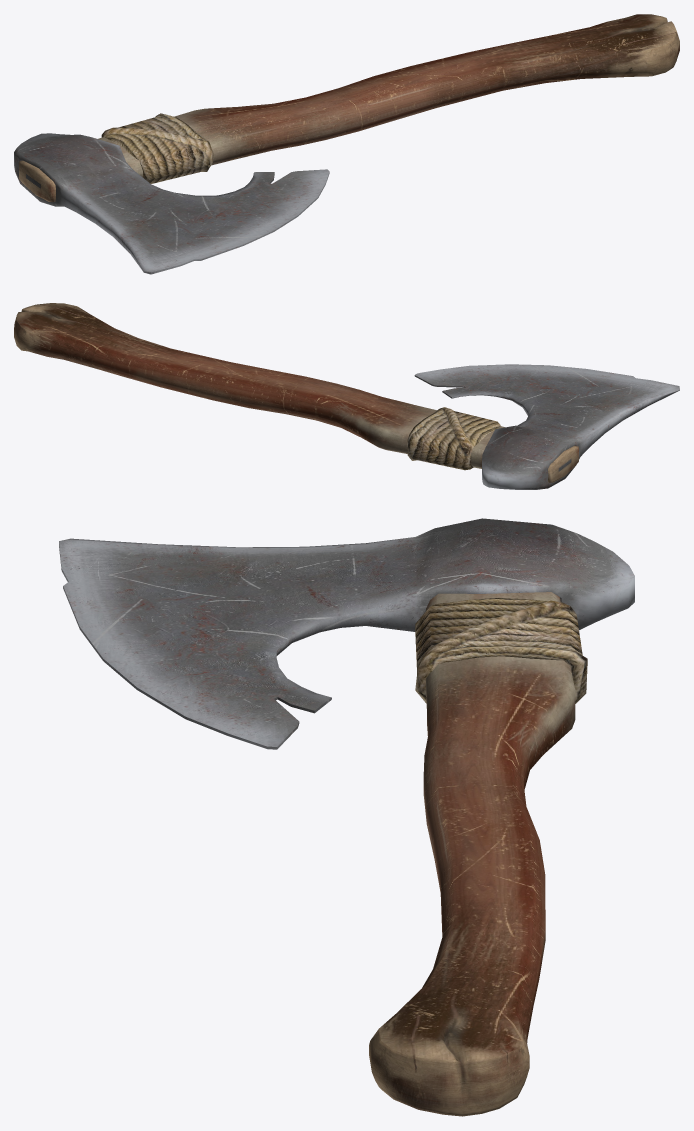
The model's file is axe.fbx.
3 renders of one model, top to bottom at view 1: azimuth 30°, elevation 25°; view 2: azimuth 150°, elevation 25°; view 3: azimuth 270°, elevation 25°, orthographic. The views are drawn at different scales.
Visible parts, largest first — view 1: Plane002; view 2: Plane002; view 3: Plane002.
Boxes of the visible parts, x1=… form: Plane002: x1=14, y1=14, x2=679, y2=274; Plane002: x1=14, y1=303, x2=679, y2=489; Plane002: x1=59, y1=518, x2=634, y2=1116.
Size of the model in its own units: 200 by 11.48 by 88.5.
